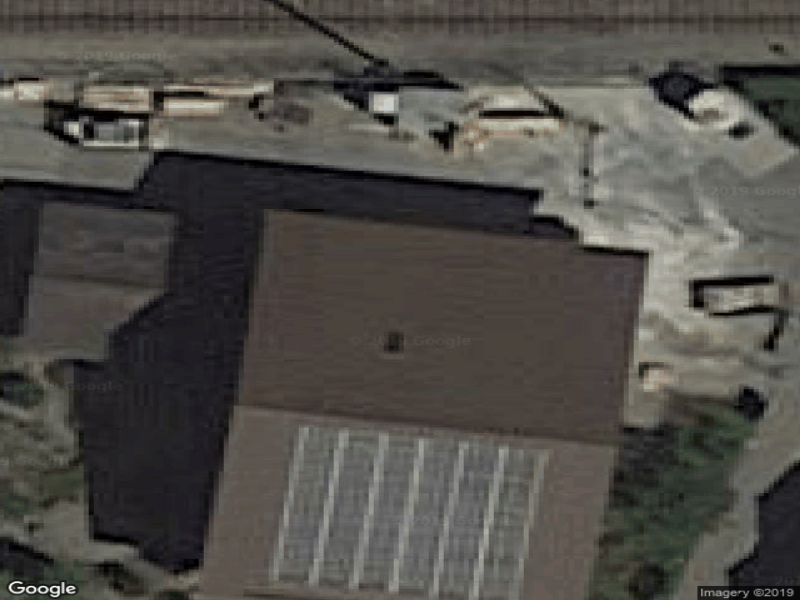pv: (276, 430, 541, 600)
